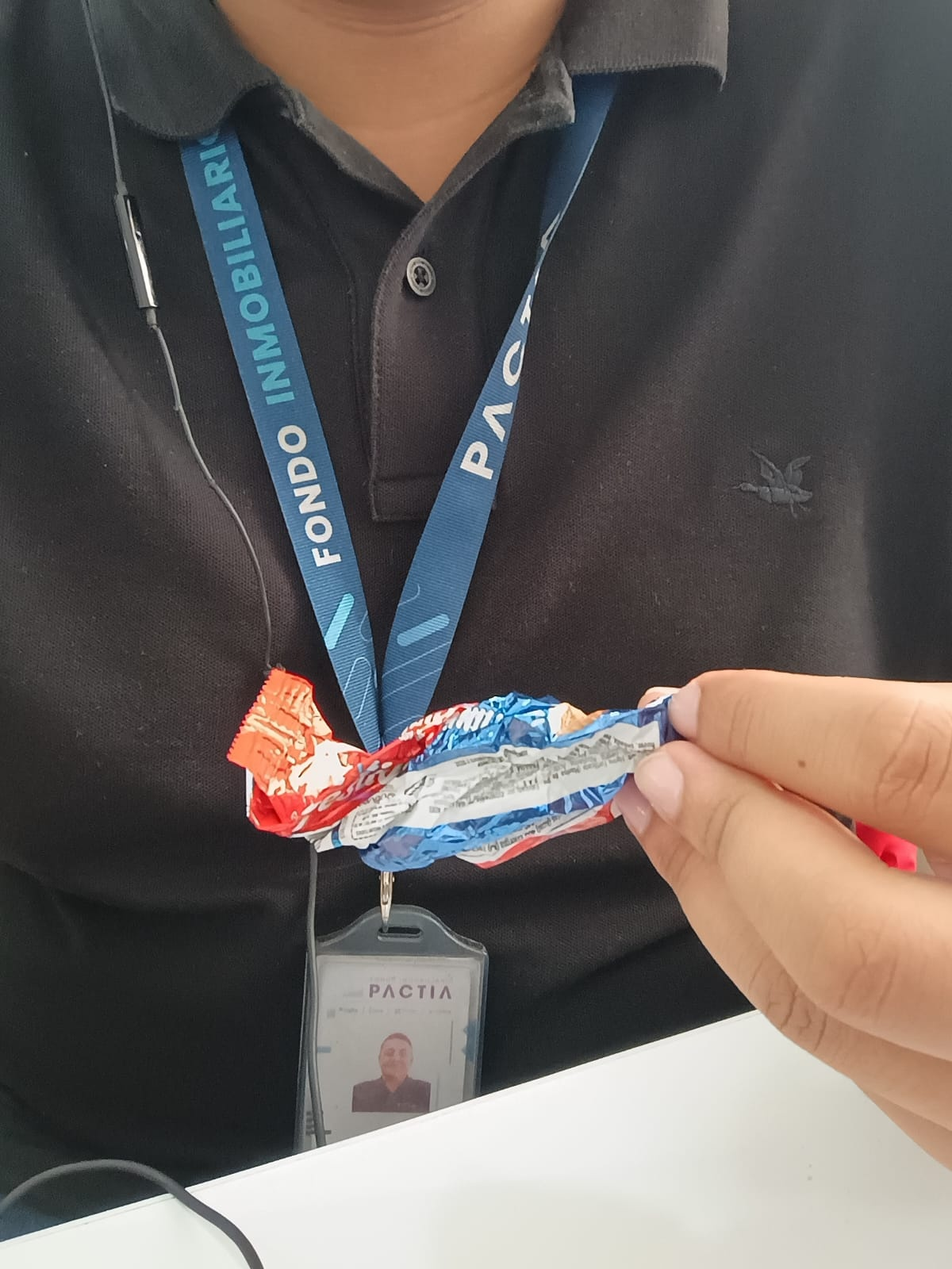Ordinario: (230, 671, 666, 874)
